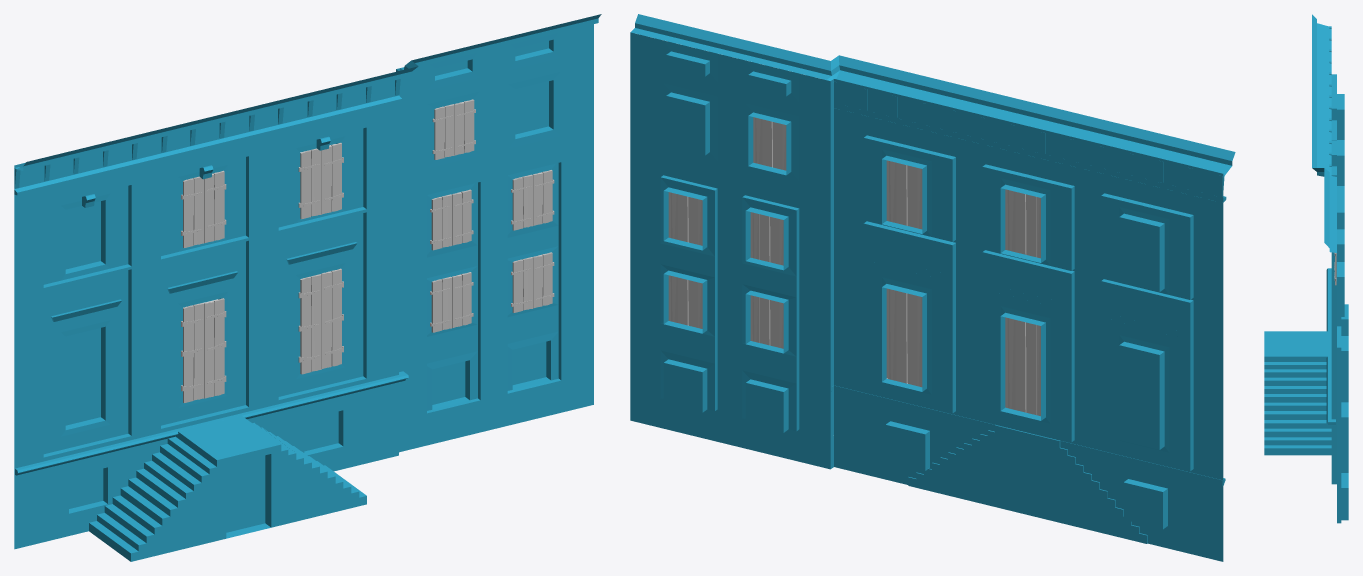
File: FACADE3.dae
The picture shows the model from 3 angles, left to right: view 1: azimuth 30°, elevation 25°; view 2: azimuth 150°, elevation 25°; view 3: azimuth 270°, elevation 25°; orthographic projection. The views are drawn at different scales.
Visible parts, largest first — view 1: FACADE__texture, LUIK_1_L, LUIK_1_R, LUIK_2_L, LUIK_2_R, LUIK_4_L, LUIK_3_L, LUIK_3_R, LUIK_4_R, LUIK_5_L, LUIK_9_L, LUIK_8_L (+7 smaller); view 2: FACADE__texture, LUIK_1_R, LUIK_2_R, LUIK_1_L, LUIK_2_L, LUIK_4_R, LUIK_3_R, LUIK_4_L, LUIK_9_R, LUIK_7_R, LUIK_8_R, LUIK_6_R (+2 smaller); view 3: FACADE__texture.
Part boxes in pixels (x1,y1,x2,y2): FACADE__texture: [14, 14, 601, 561]; LUIK_1_L: [298, 274, 321, 374]; LUIK_1_R: [321, 268, 343, 368]; LUIK_2_L: [181, 303, 203, 402]; LUIK_2_R: [204, 298, 226, 398]; LUIK_4_L: [298, 148, 321, 219]; LUIK_3_L: [181, 176, 203, 247]; LUIK_3_R: [204, 170, 226, 243]; LUIK_4_R: [321, 142, 343, 214]; LUIK_5_L: [432, 104, 454, 159]; LUIK_9_L: [511, 257, 532, 312]; LUIK_8_L: [430, 276, 451, 332]; FACADE__texture: [630, 14, 1235, 561]; LUIK_1_R: [886, 288, 907, 383]; LUIK_2_R: [1005, 317, 1026, 412]; LUIK_1_L: [907, 293, 922, 387]; LUIK_2_L: [1026, 322, 1040, 416]; LUIK_4_R: [886, 160, 907, 225]; LUIK_3_R: [1005, 189, 1026, 254]; LUIK_4_L: [907, 165, 922, 229]; LUIK_9_R: [668, 275, 688, 325]; LUIK_7_R: [668, 192, 688, 242]; LUIK_8_R: [750, 295, 770, 345]; LUIK_6_R: [750, 212, 770, 262]; FACADE__texture: [1264, 14, 1348, 523].
Size of the model in its own units: 1847 by 1200 by 288.
